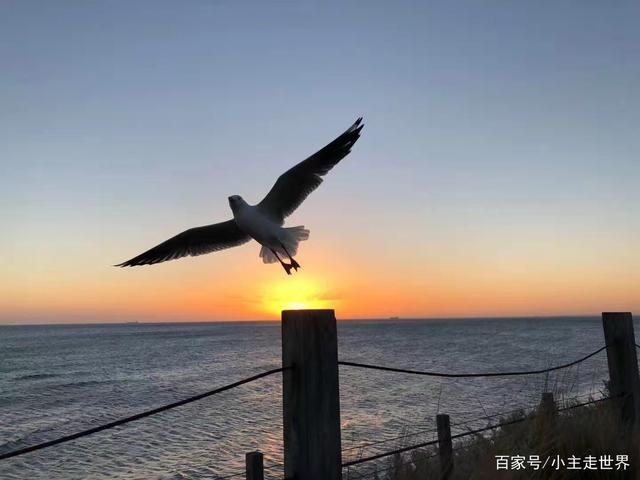bird: (108, 119, 367, 273)
